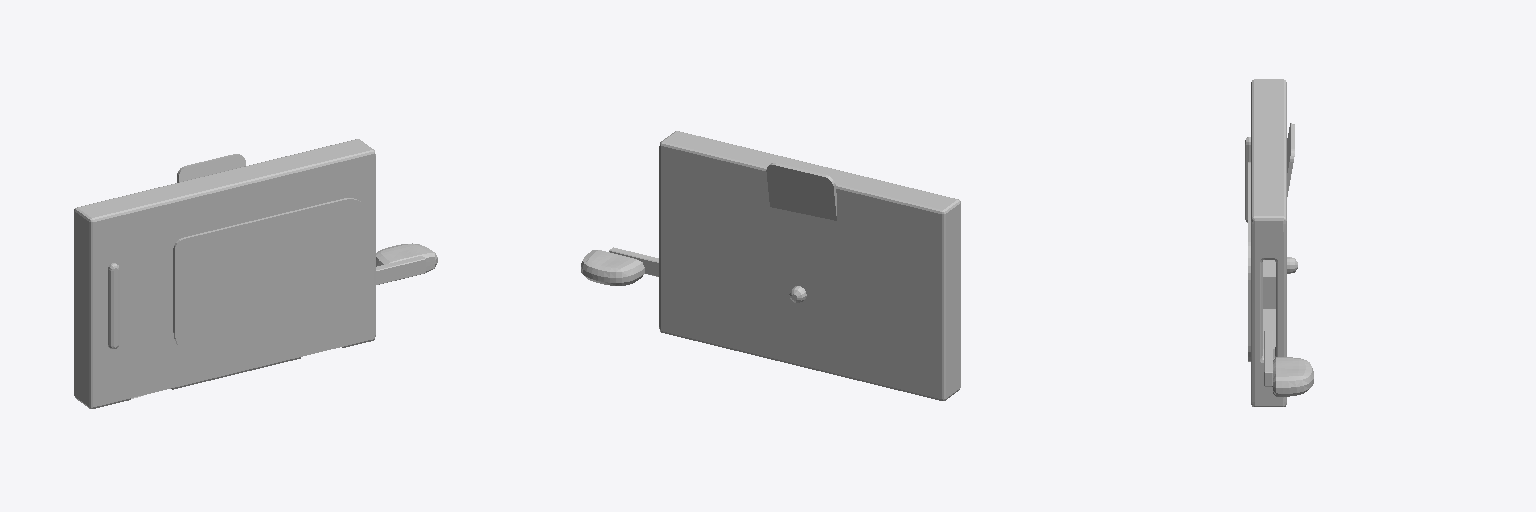
Rendered from APDCassetteDeviceCover (1).obj.
The picture shows the model from 3 angles: view 1: azimuth 30°, elevation 25°; view 2: azimuth 150°, elevation 25°; view 3: azimuth 270°, elevation 25°; orthographic projection.
Parts seen in each view (by area): view 1: DeviceCassetteCover, DeviceCassetteCover DeviceLever; view 2: DeviceCassetteCover, DeviceCassetteCover DeviceLever; view 3: DeviceCassetteCover, DeviceCassetteCover DeviceLever.
Boxes of the visible parts, <box> form: DeviceCassetteCover: <box>74,139,375,408</box>; DeviceCassetteCover DeviceLever: <box>376,243,437,284</box>; DeviceCassetteCover: <box>659,131,960,400</box>; DeviceCassetteCover DeviceLever: <box>581,247,658,285</box>; DeviceCassetteCover: <box>1245,79,1297,406</box>; DeviceCassetteCover DeviceLever: <box>1264,331,1313,396</box>.
Size of the model in its own units: 76.46 by 40.91 by 12.72.